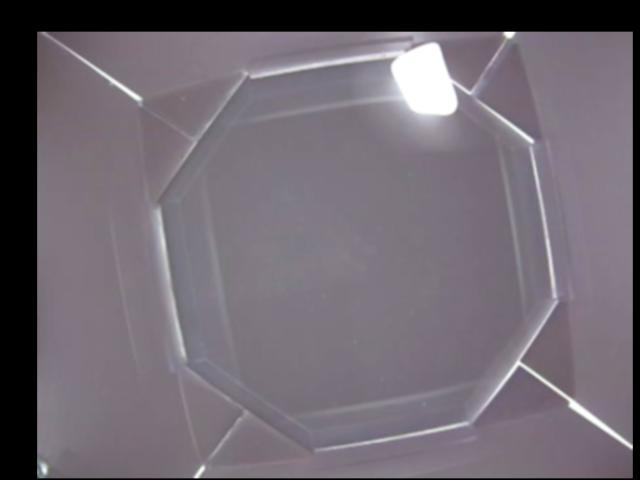Pebble: (391, 44, 454, 114)
